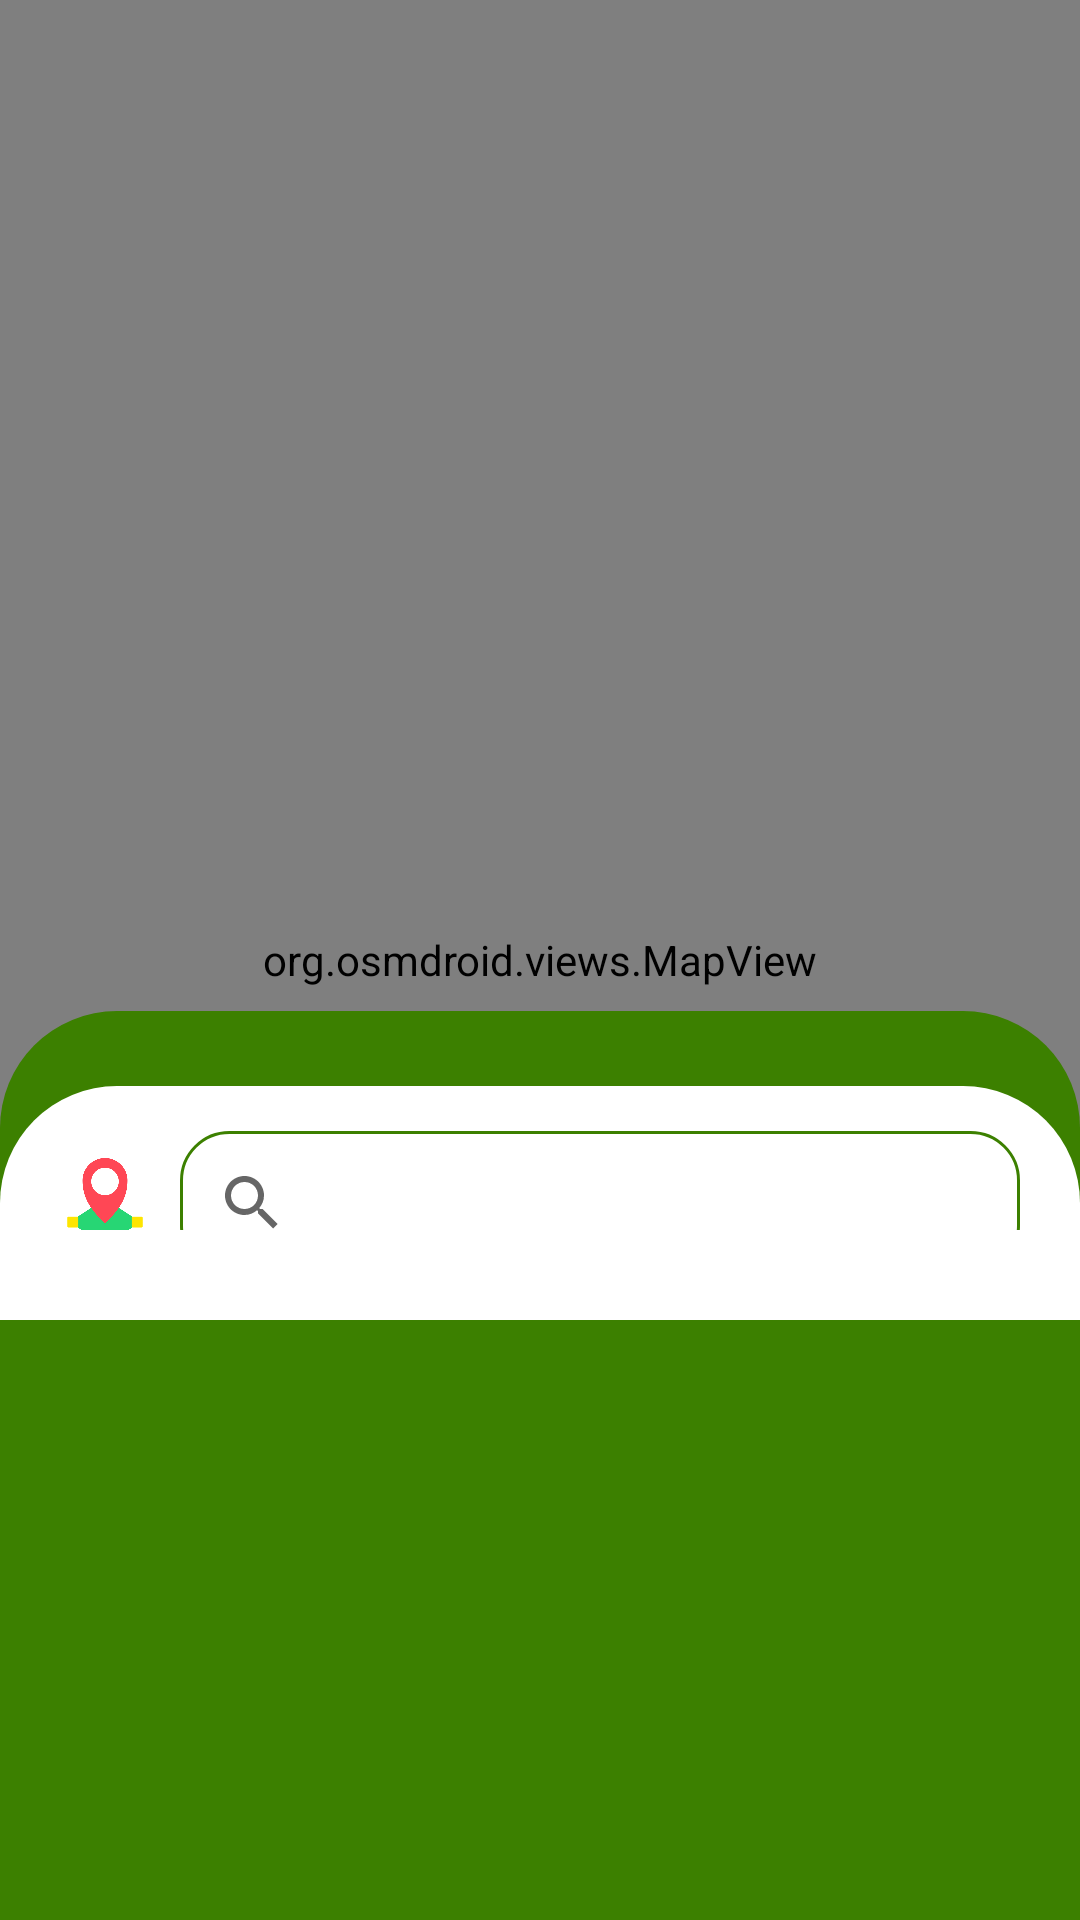

Icons on this 1080px×1920px Android screen, each with its box as detection(x1, y1, x2, y2):
location: detection(67, 1158, 143, 1230)
